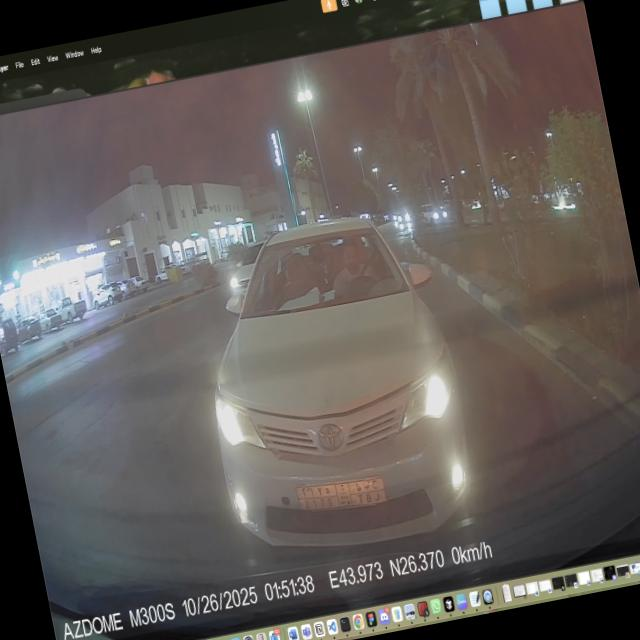person_with_seatbelt: (330, 238, 384, 294)
